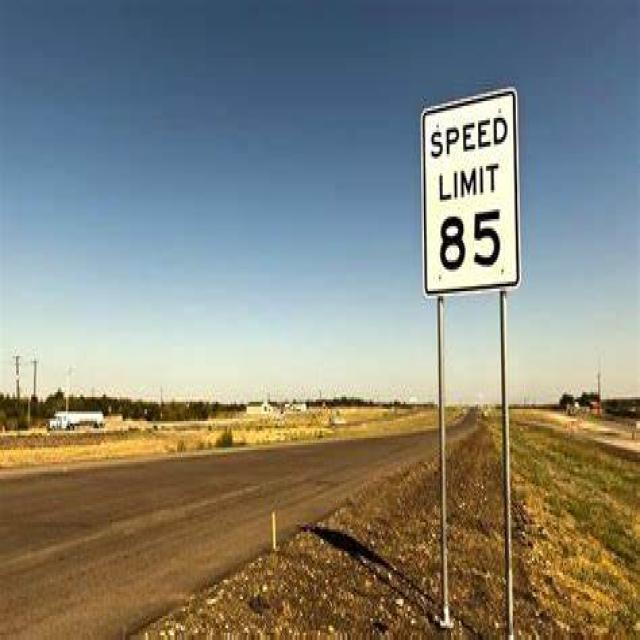speedLimit85: (421, 80, 515, 291)
